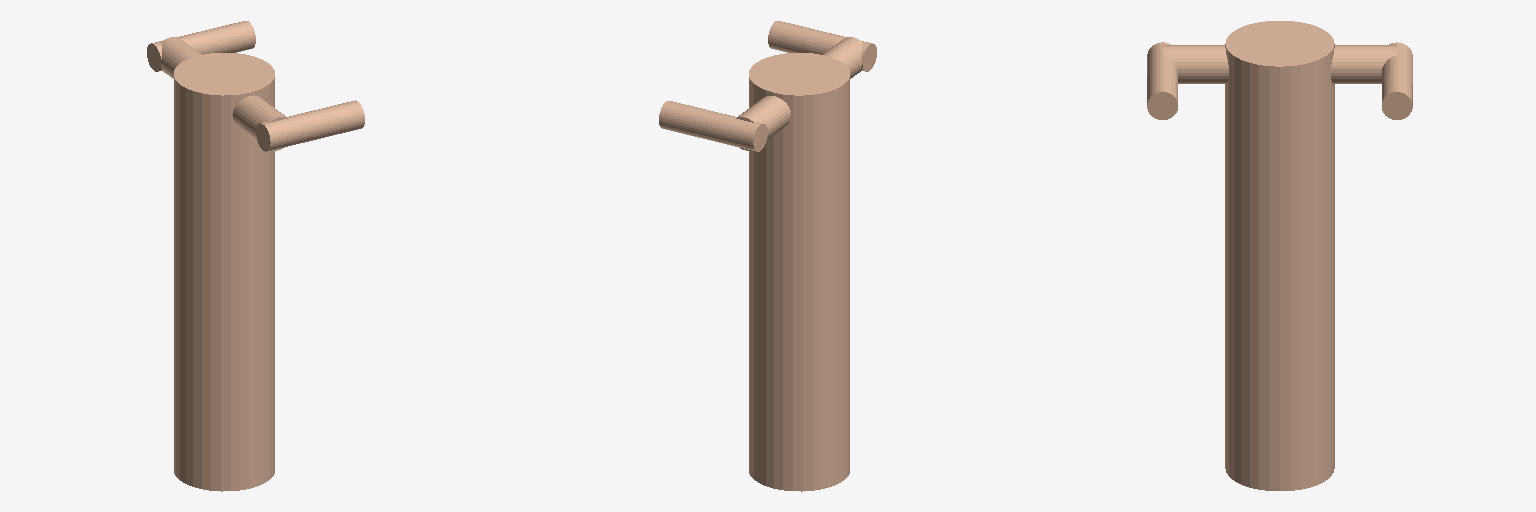
robot.urdf — mannequin:
<?xml version="1.0" ?>
<robot name="mannequin">
  <dynamics damping="1.0" />
  <contact>
    <restitution value="0.01"/>
    <lateral_friction value="0.5"/>
    <rolling_friction value="0.5"/>
    <contact_cfm value="0.0"/>
    <contact_erp value="1.0"/>
  </contact>
  <material name="peach">
    <color rgba="0.9 0.75 0.65 1"/>
  </material>
  <link name="world"/>
  <joint name="robot_to_world" type="fixed">
    <parent link="world"/>
    <child link="torso"/>
    <origin xyz="0 0 0" rpy="0 0 0"/>
  </joint>
  <link name="torso">
    <inertial>
      <mass value="0.150"/>
      <inertia ixx="1.0" ixy="0.0" ixz="0.0" iyy="1.0" iyz="0.0" izz="1.0"/>
    </inertial>
    <visual>
      <origin  xyz="0 0 0" rpy="0 0 0"/>
      <geometry>
        <cylinder length="0.6" radius="0.07"/>
      </geometry>
      <material name="peach"/>
    </visual>
    <collision>
      <origin xyz="0 0 0" rpy="0 0 0"/>
      <geometry>
        <cylinder length="0.6" radius="0.07"/>
      </geometry>
    </collision>
  </link>
  <!-- /////////////// Right shoulder and arm /////////////////// -->
  <joint name="right_shoulder_joint" type="fixed">
    <parent link="torso"/>
    <child link="right_shoulder"/>
    <origin xyz="0 -0.1 0.27" rpy="1.57 0 0"/>
  </joint>
  <link name="right_shoulder">
    <inertial>
      <mass value="0.150"/>
      <inertia ixx="1.0" ixy="0.0" ixz="0.0" iyy="1.0" iyz="0.0" izz="1.0"/>
    </inertial>
    <visual>
      <origin  xyz="0 0 0" rpy="0 0 0"/>
      <geometry>
        <cylinder length="0.1" radius="0.025"/>
      </geometry>
      <material name="peach"/>
    </visual>
    <collision>
      <origin xyz="0 0 0" rpy="0 0 0"/>
      <geometry>
        <cylinder length="0.1" radius="0.025"/>
      </geometry>
    </collision>
  </link>
  <joint name="right_arm_joint" type="fixed">
    <parent link="right_shoulder"/>
    <child link="right_arm"/>
    <origin xyz="0.05 0 0.05" rpy="1.57 0 1.57"/>
  </joint>
  <link name="right_arm">
    <inertial>
      <mass value="0.150"/>
      <inertia ixx="1.0" ixy="0.0" ixz="0.0" iyy="1.0" iyz="0.0" izz="1.0"/>
    </inertial>
    <visual>
      <origin  xyz="0 0 0" rpy="0 0 0"/>
      <geometry>
        <cylinder length="0.15" radius="0.02"/>
      </geometry>
      <material name="peach"/>
    </visual>
    <collision>
      <origin xyz="0 0 0" rpy="0 0 0"/>
      <geometry>
        <cylinder length="0.15" radius="0.02"/>
      </geometry>
    </collision>
  </link>
  <!-- /////////////// Left shoulder and arm /////////////////// -->
  <joint name="left_shoulder_joint" type="fixed">
    <parent link="torso"/>
    <child link="left_shoulder"/>
    <origin xyz="0 0.1 0.27" rpy="1.57 0 0"/>
  </joint>
  <link name="left_shoulder">
    <inertial>
      <mass value="0.150"/>
      <inertia ixx="1.0" ixy="0.0" ixz="0.0" iyy="1.0" iyz="0.0" izz="1.0"/>
    </inertial>
    <visual>
      <origin  xyz="0 0 0" rpy="0 0 0"/>
      <geometry>
        <cylinder length="0.1" radius="0.025"/>
      </geometry>
      <material name="peach"/>
    </visual>
    <collision>
      <origin xyz="0 0 0" rpy="0 0 0"/>
      <geometry>
        <cylinder length="0.1" radius="0.025"/>
      </geometry>
    </collision>
  </link>
  <joint name="left_arm_joint" type="fixed">
    <parent link="left_shoulder"/>
    <child link="left_arm"/>
    <origin xyz="0.05 0 -0.05" rpy="1.57 0 1.57"/>
  </joint>
  <link name="left_arm">
    <inertial>
      <mass value="0.150"/>
      <inertia ixx="1.0" ixy="0.0" ixz="0.0" iyy="1.0" iyz="0.0" izz="1.0"/>
    </inertial>
    <visual>
      <origin  xyz="0 0 0" rpy="0 0 0"/>
      <geometry>
        <cylinder length="0.15" radius="0.02"/>
      </geometry>
      <material name="peach"/>
    </visual>
    <collision>
      <origin xyz="0 0 0" rpy="0 0 0"/>
      <geometry>
        <cylinder length="0.15" radius="0.02"/>
      </geometry>
    </collision>
  </link>
</robot>

--- Render facts (derived) ---
3 views of the same robot in one strip: view 1: azimuth 30°, elevation 25°; view 2: azimuth 150°, elevation 25°; view 3: azimuth 270°, elevation 25° (orthographic).
Robot: mannequin — 6 links, 5 joints (5 fixed); root link world; default pose: every joint at zero.
Links seen in each view (by area): view 1: torso, right_arm, left_arm, right_shoulder, left_shoulder; view 2: torso, left_arm, right_arm, left_shoulder, right_shoulder; view 3: torso, left_shoulder, right_shoulder, right_arm, left_arm.
Link boxes in pixels (bbox=[...]): torso: bbox=[174, 53, 274, 491]; right_arm: bbox=[256, 100, 364, 151]; left_arm: bbox=[147, 21, 255, 71]; right_shoulder: bbox=[232, 95, 287, 150]; left_shoulder: bbox=[161, 37, 201, 78]; torso: bbox=[749, 53, 849, 491]; left_arm: bbox=[659, 101, 767, 151]; right_arm: bbox=[768, 21, 876, 71]; left_shoulder: bbox=[736, 96, 791, 150]; right_shoulder: bbox=[823, 37, 867, 78]; torso: bbox=[1225, 21, 1334, 490]; left_shoulder: bbox=[1331, 45, 1396, 83]; right_shoulder: bbox=[1163, 45, 1228, 83]; right_arm: bbox=[1147, 42, 1177, 119]; left_arm: bbox=[1382, 42, 1412, 119].
Bounding box of the posed robot: 0.195 × 0.3401 × 0.6 m (x, y, z).
Geometry: primitives only (box / cylinder / sphere), no mesh files.